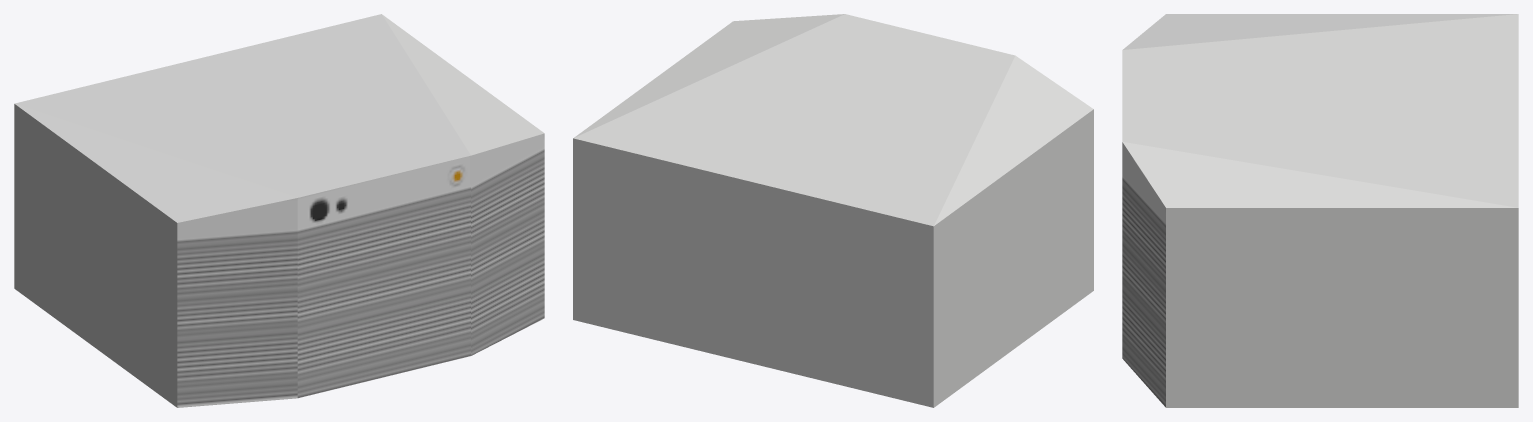
The model's file is WindowACUnit.fbx.
3 renders of one model, left to right at view 1: azimuth 30°, elevation 25°; view 2: azimuth 150°, elevation 25°; view 3: azimuth 270°, elevation 25°, orthographic. The views are drawn at different scales.
Parts seen in each view (by area): view 1: Maya_File_Assets:TexturedAssetsCurrent:Assets:air_purifier_0; view 2: Maya_File_Assets:TexturedAssetsCurrent:Assets:air_purifier_0; view 3: Maya_File_Assets:TexturedAssetsCurrent:Assets:air_purifier_0.
Part boxes in pixels (left/top/right/bottom): Maya_File_Assets:TexturedAssetsCurrent:Assets:air_purifier_0: left=14, top=14, right=544, bottom=407; Maya_File_Assets:TexturedAssetsCurrent:Assets:air_purifier_0: left=573, top=14, right=1093, bottom=407; Maya_File_Assets:TexturedAssetsCurrent:Assets:air_purifier_0: left=1122, top=14, right=1518, bottom=407.
Bounding box in the file's own units: 0.9312 × 0.4855 × 0.8047.
